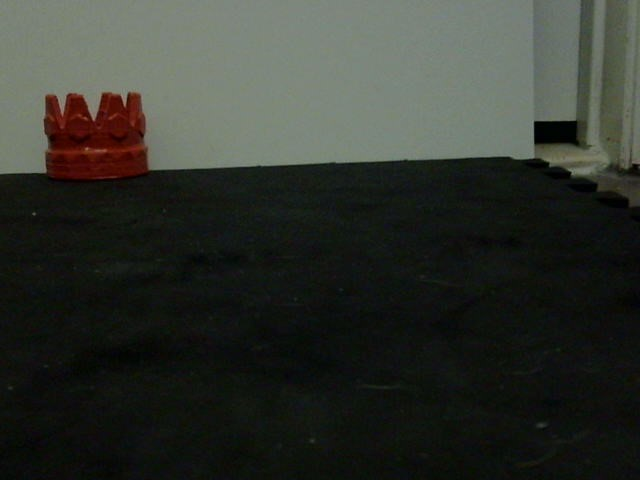crown: (41, 90, 152, 183)
